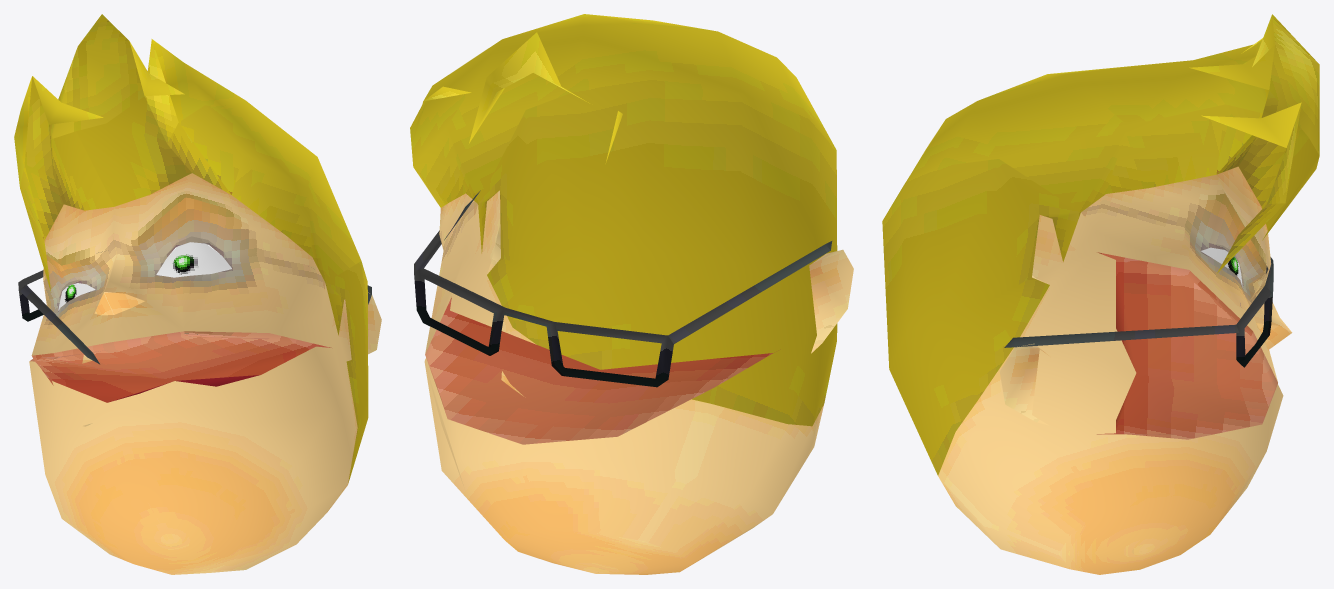
The model's file is ps2_save-icons_buzzthemegaquiz.glb.
3 views of the same model, side by side, from view 1: azimuth 30°, elevation 25°; view 2: azimuth 150°, elevation 25°; view 3: azimuth 270°, elevation 25° (orthographic). The views are drawn at different scales.
Visible parts, largest first — view 1: BZ.ico; view 2: BZ.ico; view 3: BZ.ico.
Part boxes in pixels (box(x1,y1,x2,y2)): BZ.ico: box(14, 14, 381, 574); BZ.ico: box(410, 14, 853, 574); BZ.ico: box(882, 14, 1319, 574).
Size of the model in its own units: 3.08 by 5 by 3.71.
1 material, 1 textured.
